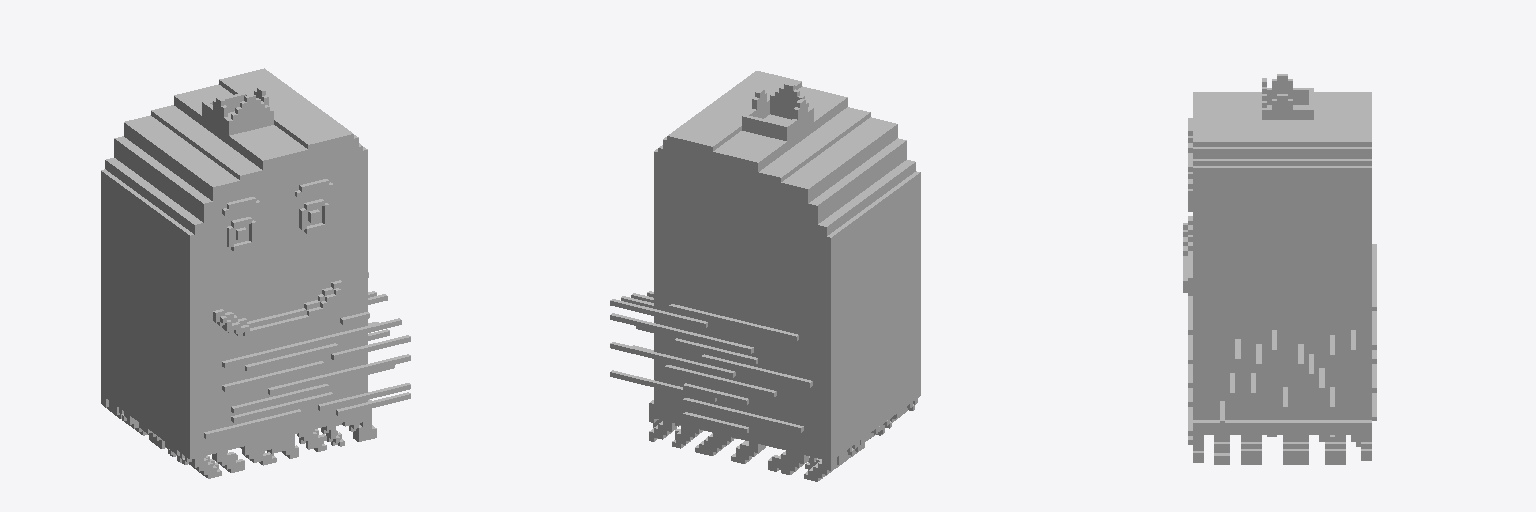
The model's file is ghost a 2.obj.
3 renders of one model, left to right at view 1: azimuth 30°, elevation 25°; view 2: azimuth 150°, elevation 25°; view 3: azimuth 270°, elevation 25°, orthographic.
Visible parts, largest first — view 1: object 1; view 2: object 1; view 3: object 1.
Boxes of the visible parts, box(x1,y1,x2,y2) form: object 1: box(101, 68, 410, 478); object 1: box(610, 71, 920, 481); object 1: box(1183, 74, 1376, 464).
Size of the model in its own units: 4.8 by 7.1 by 3.7.